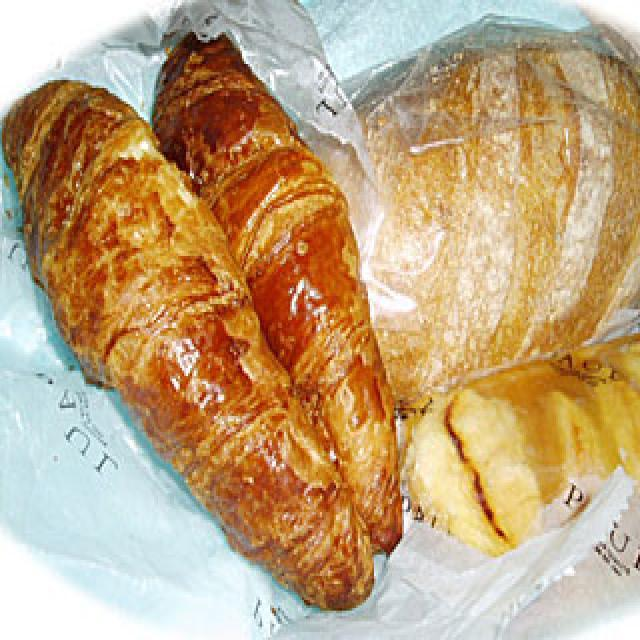Croissant: (8, 63, 381, 604)
